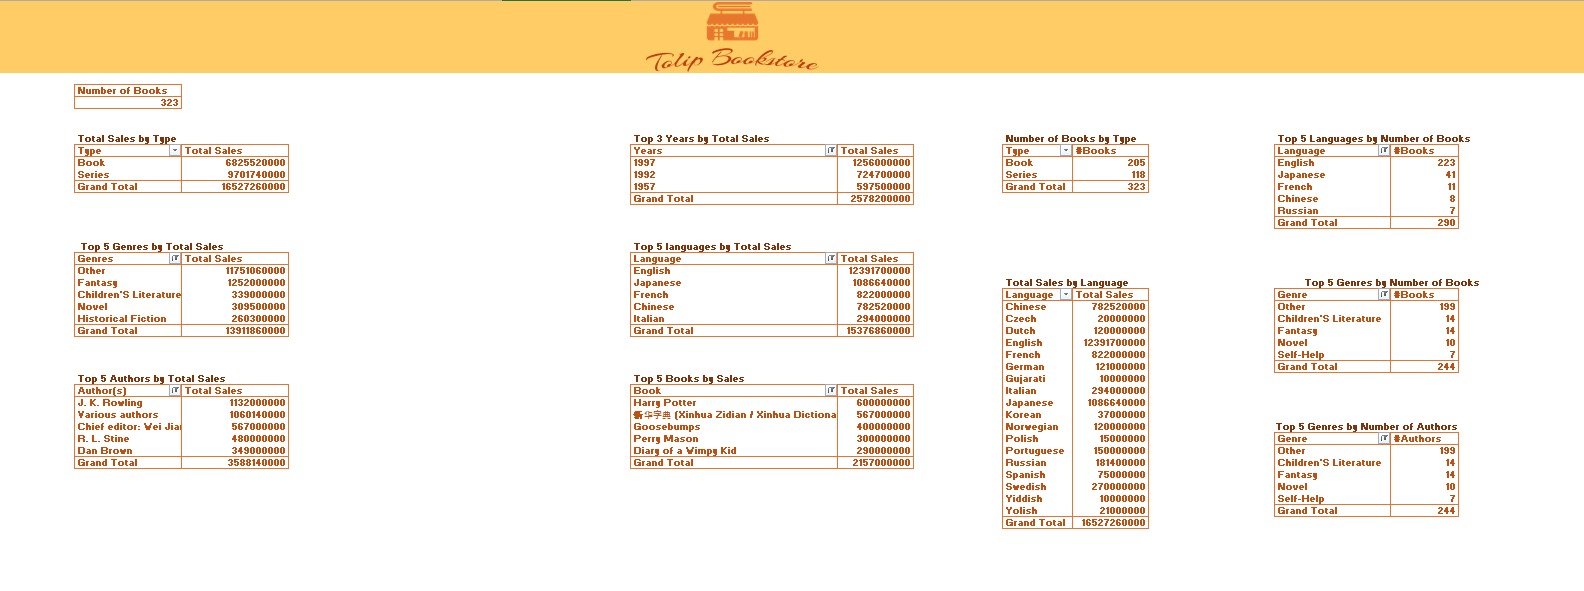

The page's visual inventory and layout, read from the dashboard file:
{"tool":"tableau","page":{"name":"Dashboard 1","canvas":[1620,1100],"ordinal":0},"visuals":[{"type":"title","box":[8,8,1604,49]},{"type":"image","param":"C:/Users/Dell/Downloads/book.png","box":[596,17,67,68]},{"type":"worksheet","title":"Sheet 1","mark":"Automatic","box":[16,68,1582,93]},{"type":"worksheet","title":"Sheet 2","mark":"Automatic","box":[19,180,694,451]},{"type":"worksheet","title":"Sheet 4","mark":"Automatic","rows":["Genre"],"box":[740,181,603,334]},{"type":"filter","title":"Sheet 5","param":"[federated.0yx0n7v0ejmz4y1bsx3sr1jqaikj].[none:First Published (Dim!Date (2)):nk","box":[1366,181,227,339]},{"type":"filter","title":"Sheet 2","param":"[federated.0yx0n7v0ejmz4y1bsx3sr1jqaikj].[none:Original Language:nk]","box":[1370,530,219,377]},{"type":"worksheet","title":"Sheet 6","mark":"Automatic","rows":["Original Language"],"box":[738,544,603,363]},{"type":"worksheet","title":"Sheet 5","mark":"Circle","box":[13,653,703,257]}]}

Visuals, with their boxes on the page's 1620x1100 design canvas (x1, y1, x2, y2). These are canvas units, not pixel positions in the 1584x591 screenshot, which may show the page scaled, cropped or inside an application window:
title: locate(8, 8, 1612, 57)
image: locate(596, 17, 663, 85)
"Sheet 1" worksheet: locate(16, 68, 1598, 161)
"Sheet 2" worksheet: locate(19, 180, 713, 631)
"Sheet 4" worksheet: locate(740, 181, 1343, 515)
"Sheet 5" filter: locate(1366, 181, 1593, 520)
"Sheet 2" filter: locate(1370, 530, 1589, 907)
"Sheet 6" worksheet: locate(738, 544, 1341, 907)
"Sheet 5" worksheet (Circle marks): locate(13, 653, 716, 910)
